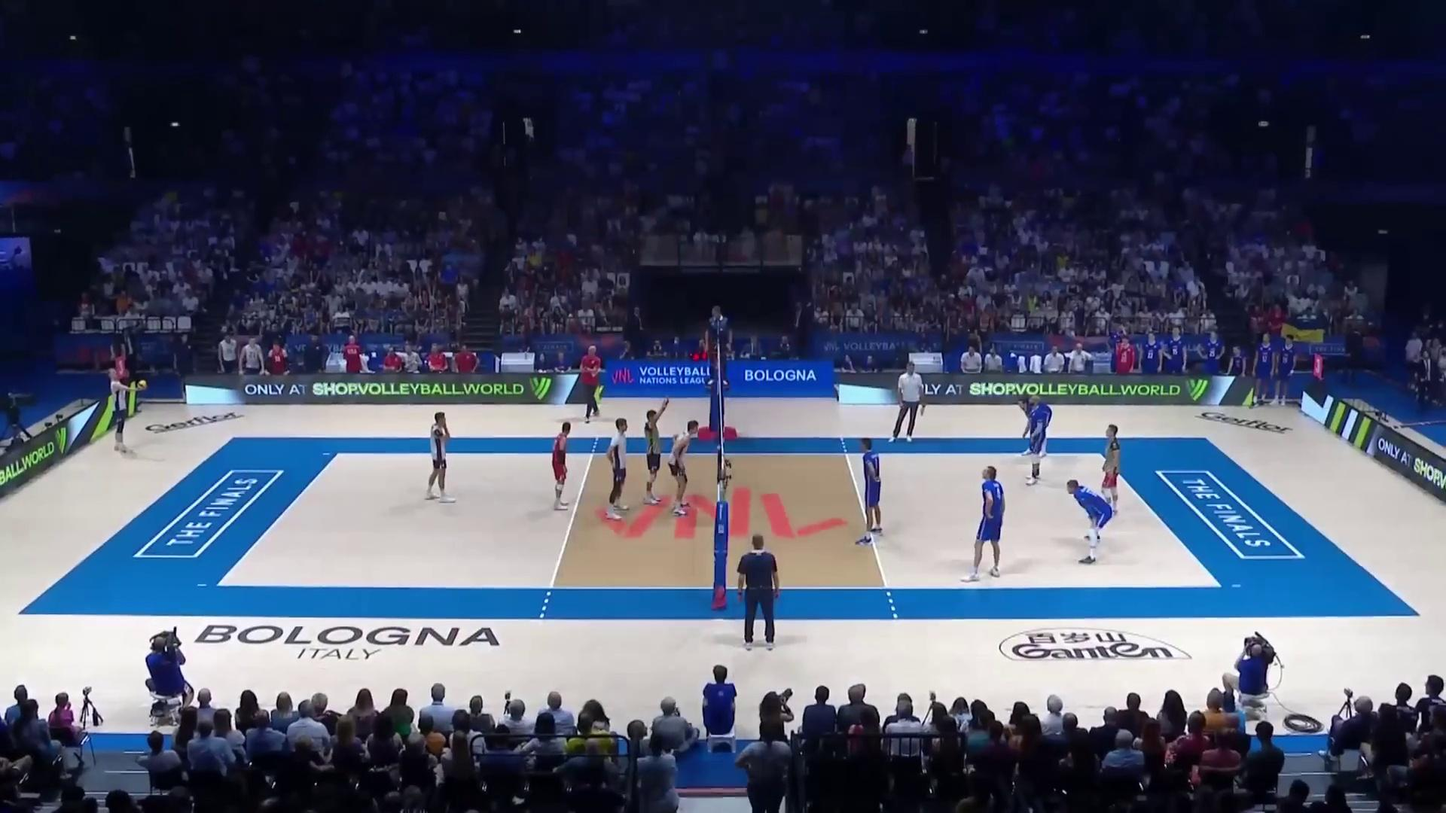player: (969, 466, 1008, 581), (1068, 476, 1116, 565), (108, 367, 145, 457), (857, 438, 884, 544), (673, 419, 700, 517), (604, 420, 631, 513), (1017, 391, 1053, 459), (1099, 425, 1124, 522), (644, 400, 667, 502), (429, 413, 455, 502), (548, 421, 570, 511), (1028, 396, 1048, 484)
refree: (734, 535, 778, 647), (706, 306, 731, 386)
